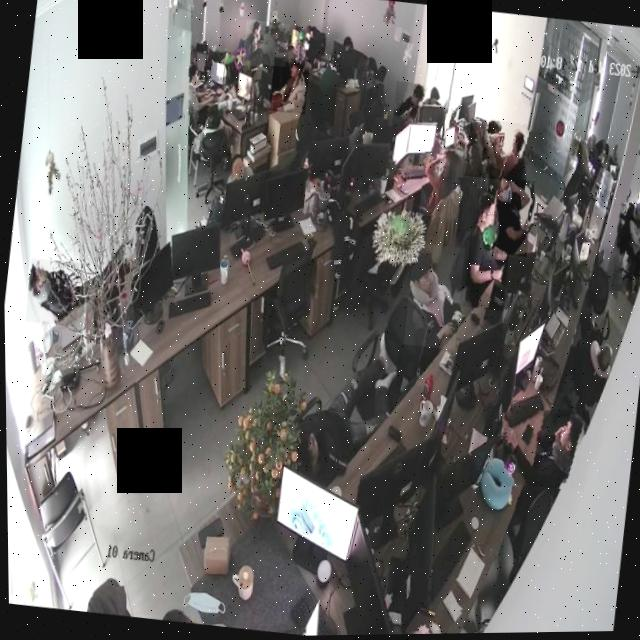person: (495, 404, 591, 494), (460, 189, 516, 312), (401, 244, 465, 351), (462, 118, 528, 184), (23, 257, 82, 327), (490, 178, 535, 259), (417, 147, 464, 221), (608, 203, 640, 295), (267, 57, 311, 115), (179, 64, 217, 129), (453, 120, 485, 181), (391, 82, 425, 124), (260, 22, 290, 68), (240, 19, 266, 68)
